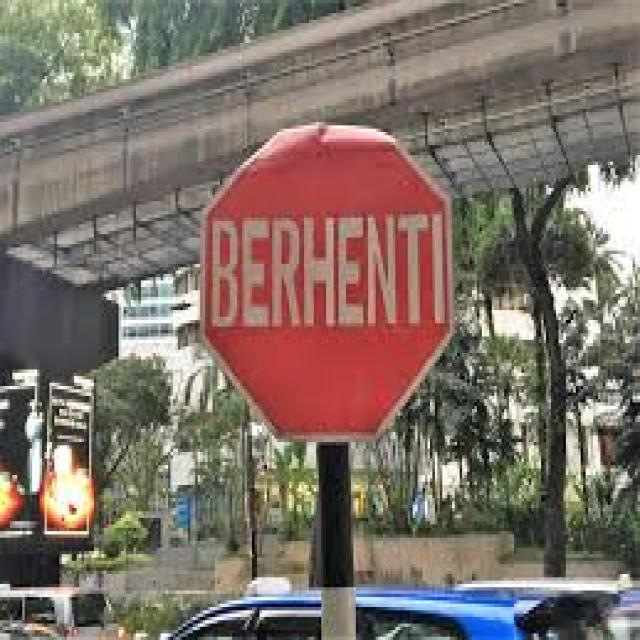stop-sign: (195, 105, 457, 418)
